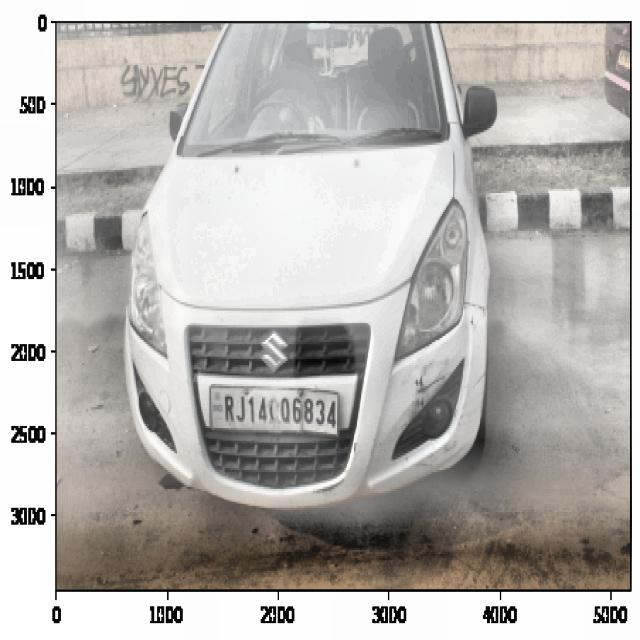license_plate: (222, 385, 340, 442)
